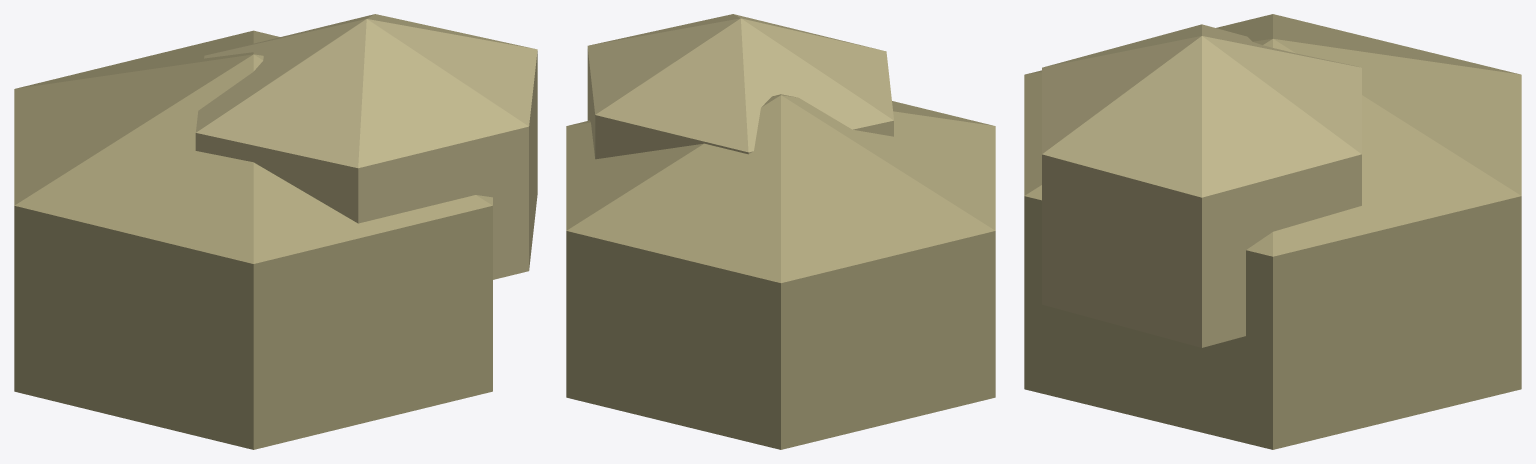
The model's file is dry_bush.glb.
The picture shows the model from 3 angles, left to right: view 1: azimuth 30°, elevation 25°; view 2: azimuth 150°, elevation 25°; view 3: azimuth 270°, elevation 25°; orthographic projection. The views are drawn at different scales.
Visible parts, largest first — view 1: bush; view 2: bush; view 3: bush.
Boxes of the visible parts, x1,y1,x2,y2 form: bush: [14, 14, 537, 449]; bush: [566, 14, 995, 449]; bush: [1024, 14, 1521, 449].
Bounding box in the file's own units: 1.55 × 1.25 × 1.31.
